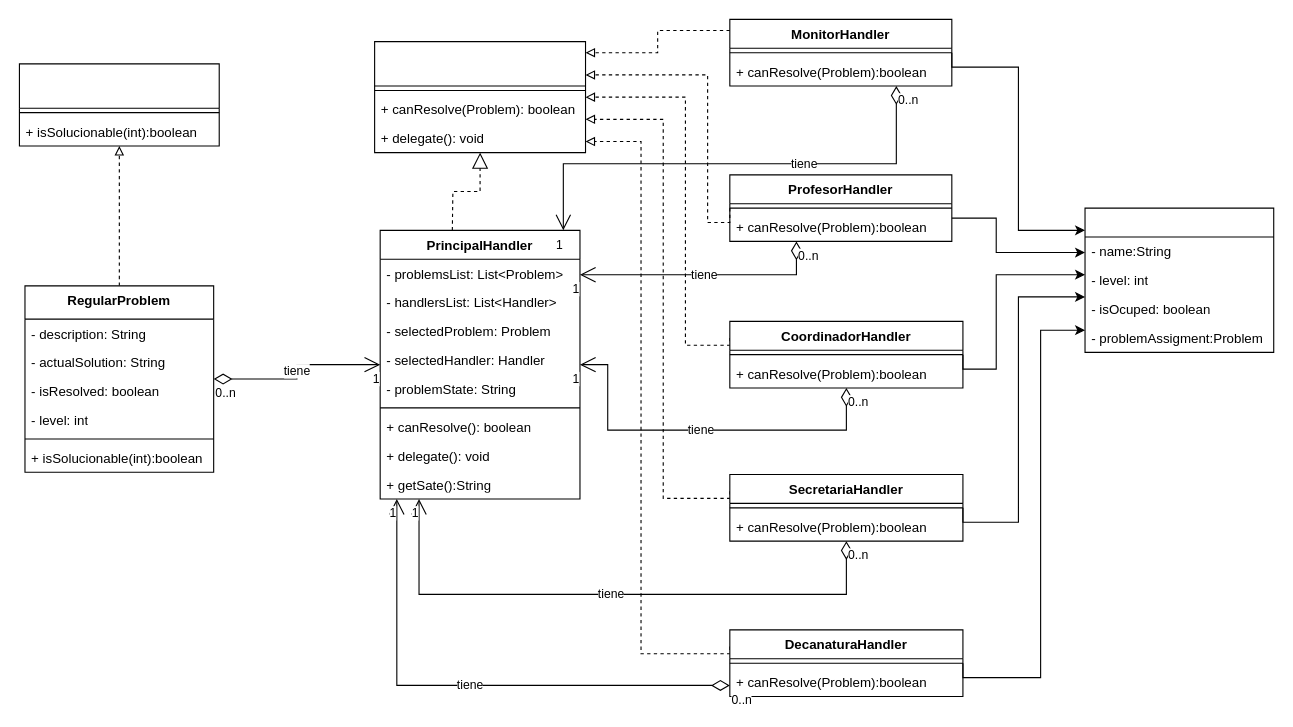
Some shapes in this 1293 by 727 pixel diagram are drawn without their labels. Here are the shapes that lost their labels. From the top down, the box of each, then its label:
(18, 63, 219, 146): <<interface>> Problem
(374, 41, 586, 153): <<interface>> Handler
(1084, 207, 1274, 352): SubHandler
